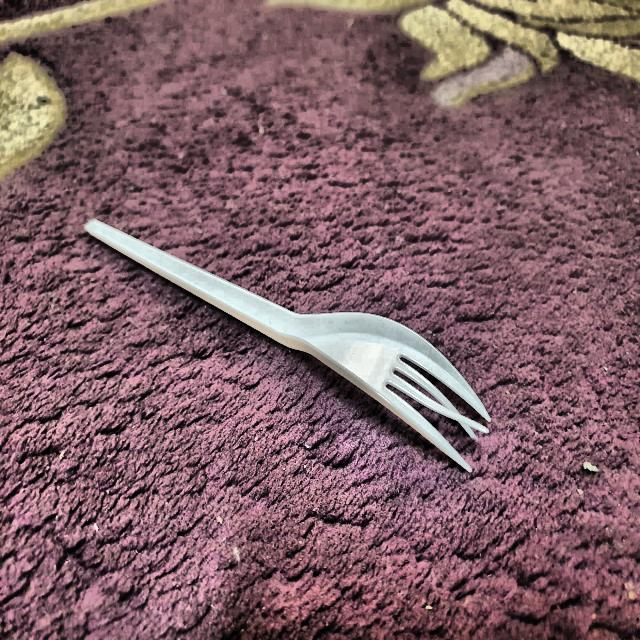plastic utensil: (82, 215, 495, 477)
